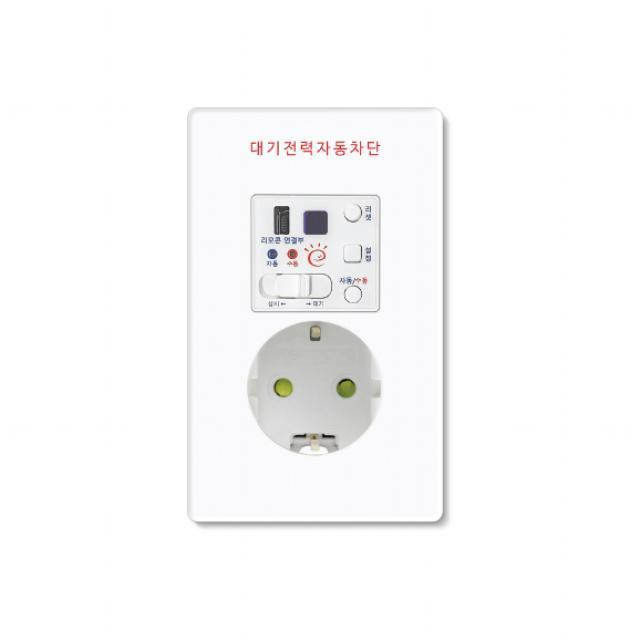typeb: (161, 90, 516, 572)
